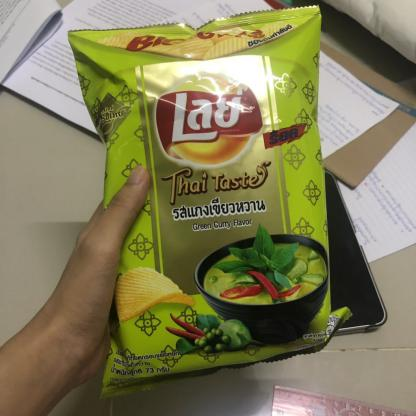potatochip: (68, 6, 351, 396)
